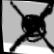not correct: (1, 0, 54, 54)
